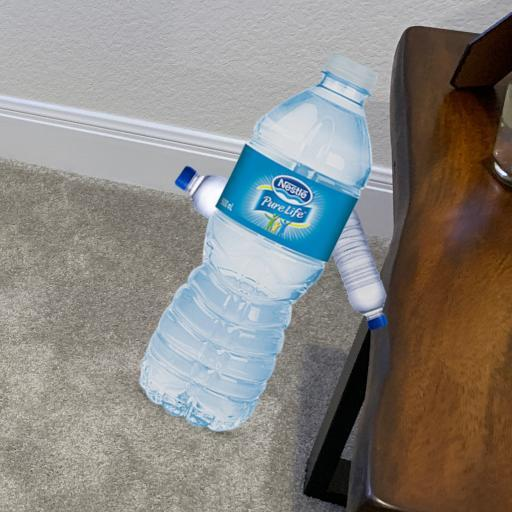bottle: (116, 55, 402, 442)
